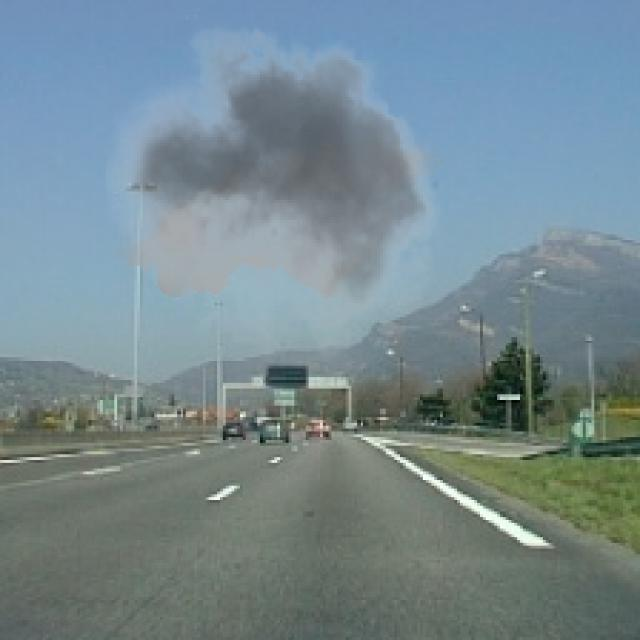smoke: (103, 9, 454, 372)
